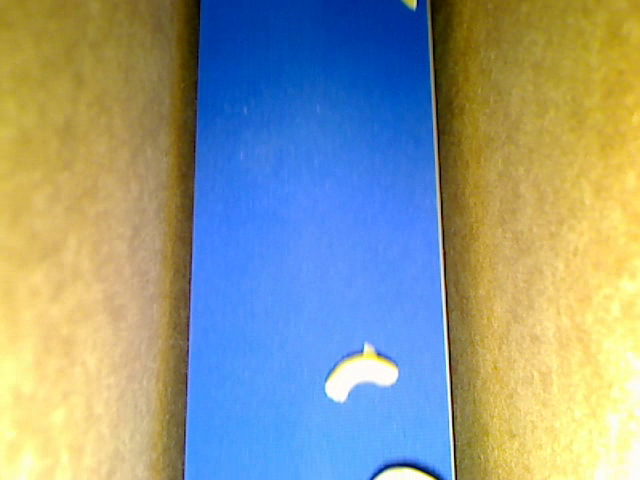elbow: (322, 354, 399, 404)
